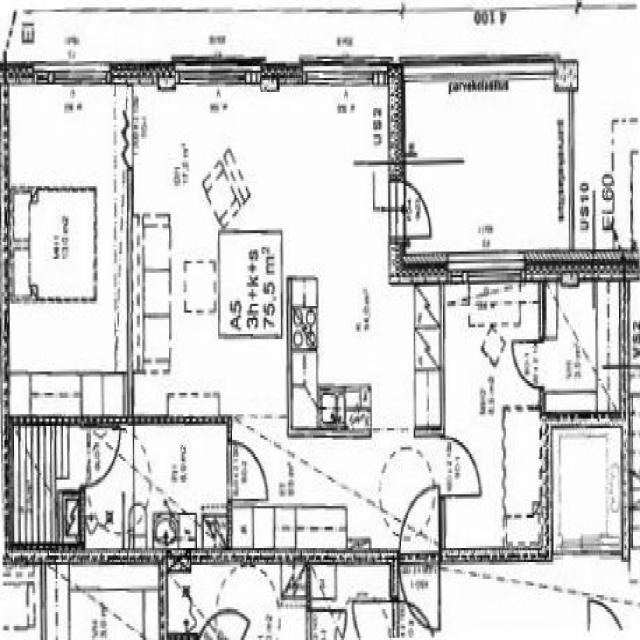door: (400, 550, 439, 630), (400, 484, 439, 564), (388, 182, 437, 238), (228, 442, 266, 500), (81, 428, 119, 486), (441, 438, 478, 495), (512, 341, 543, 387)
